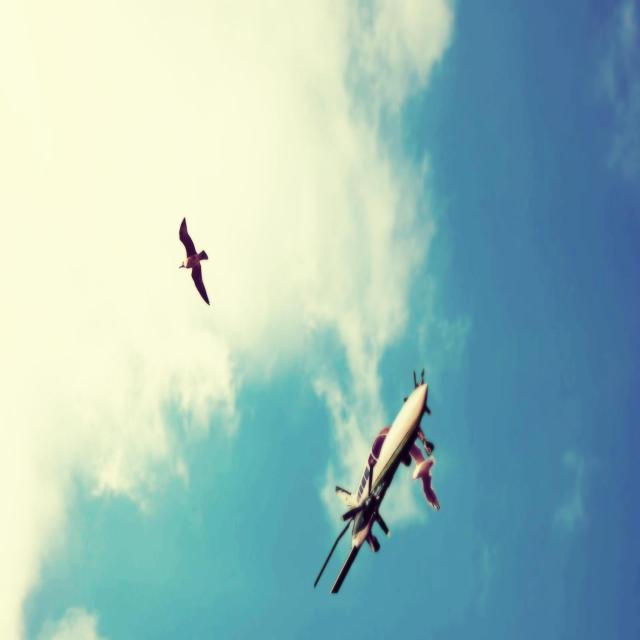airplane: (313, 382, 429, 596)
